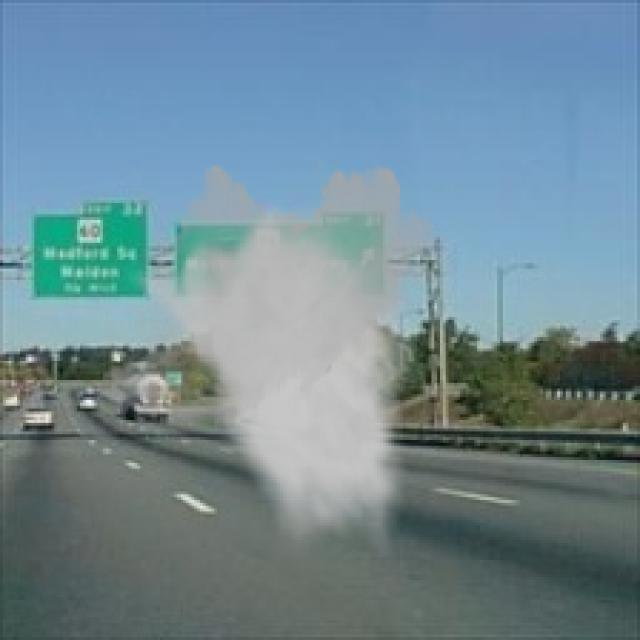Smoke: (94, 154, 446, 557)
